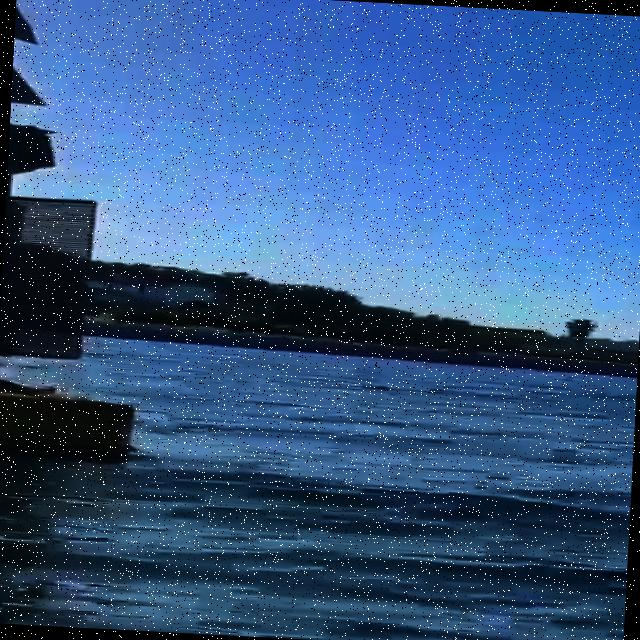marque: (1, 1, 160, 468)
